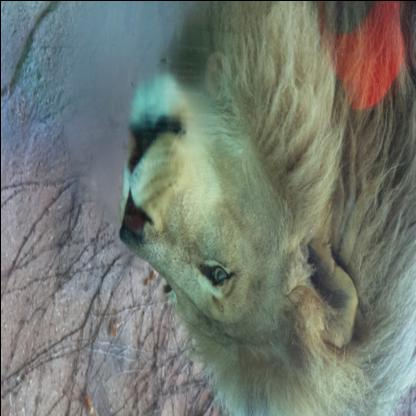lion: (113, 48, 361, 414)
